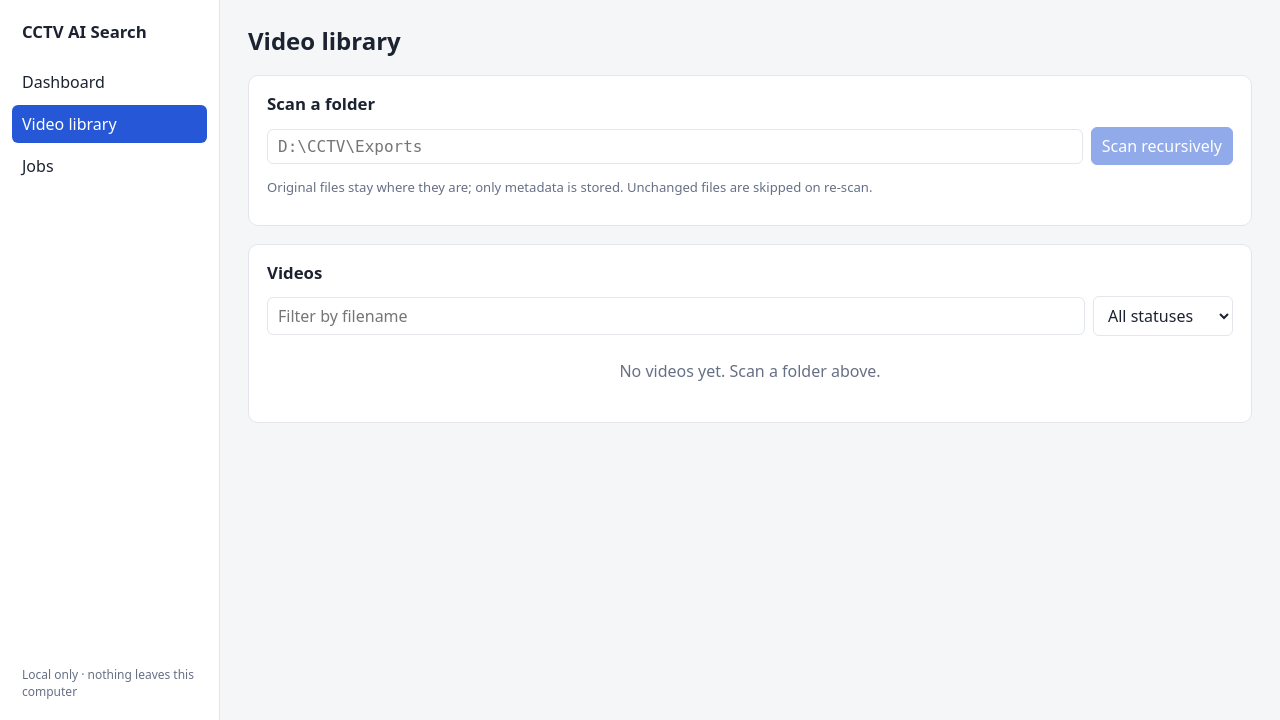
Library › shows empty state and submits a scan
The image size is (1280, 720).
expect the text "No videos yet. Scan a folder above." is shown: met, box [619,360,881,382]
Type "D:\\CCTV" into the field named "Folder path" at (675, 146), box [267,128,1083,164]
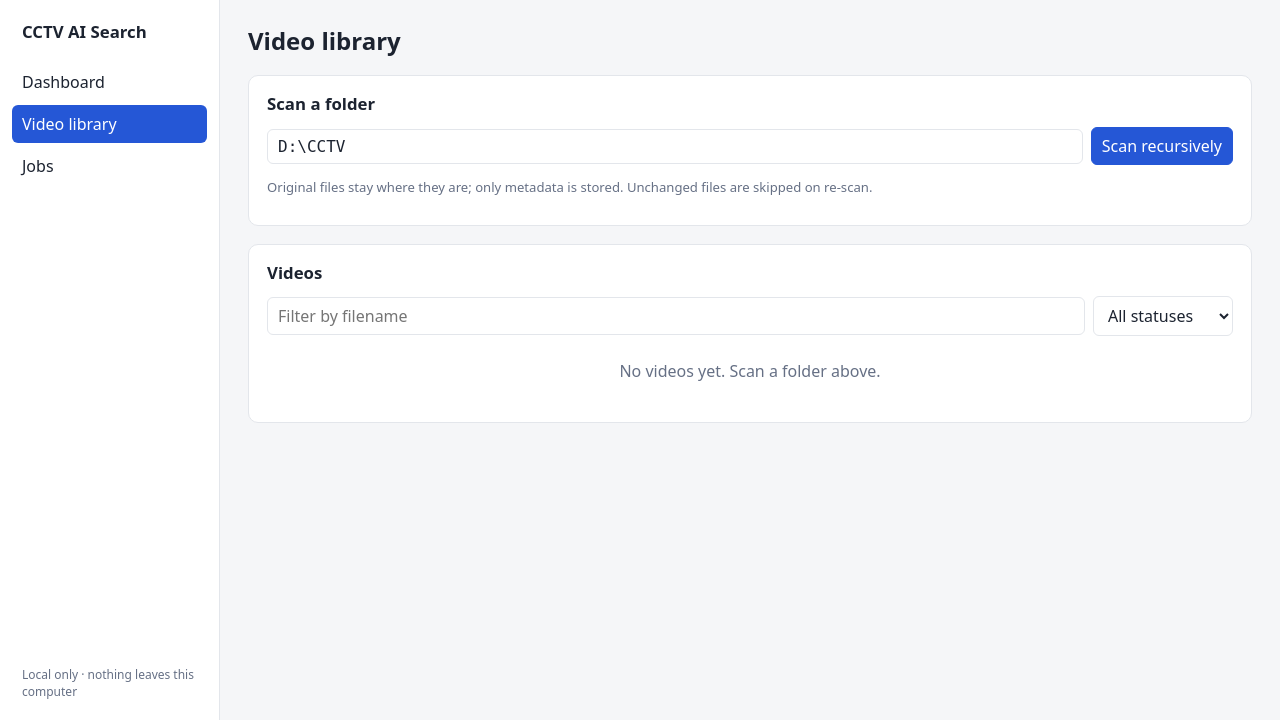
Click the button "Scan recursively" at (1162, 146), box [1091,127,1233,165]
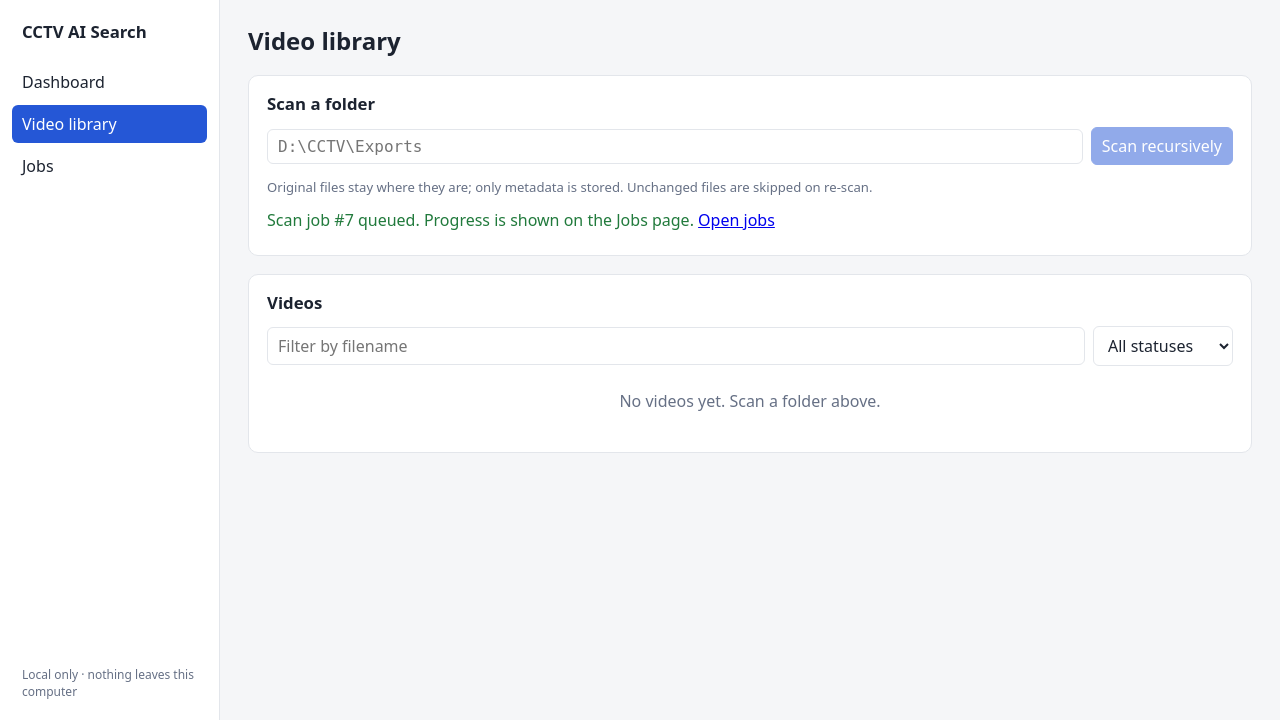
expect the text "Scan job #7 queued" is shown: met, box [267,209,694,231]
